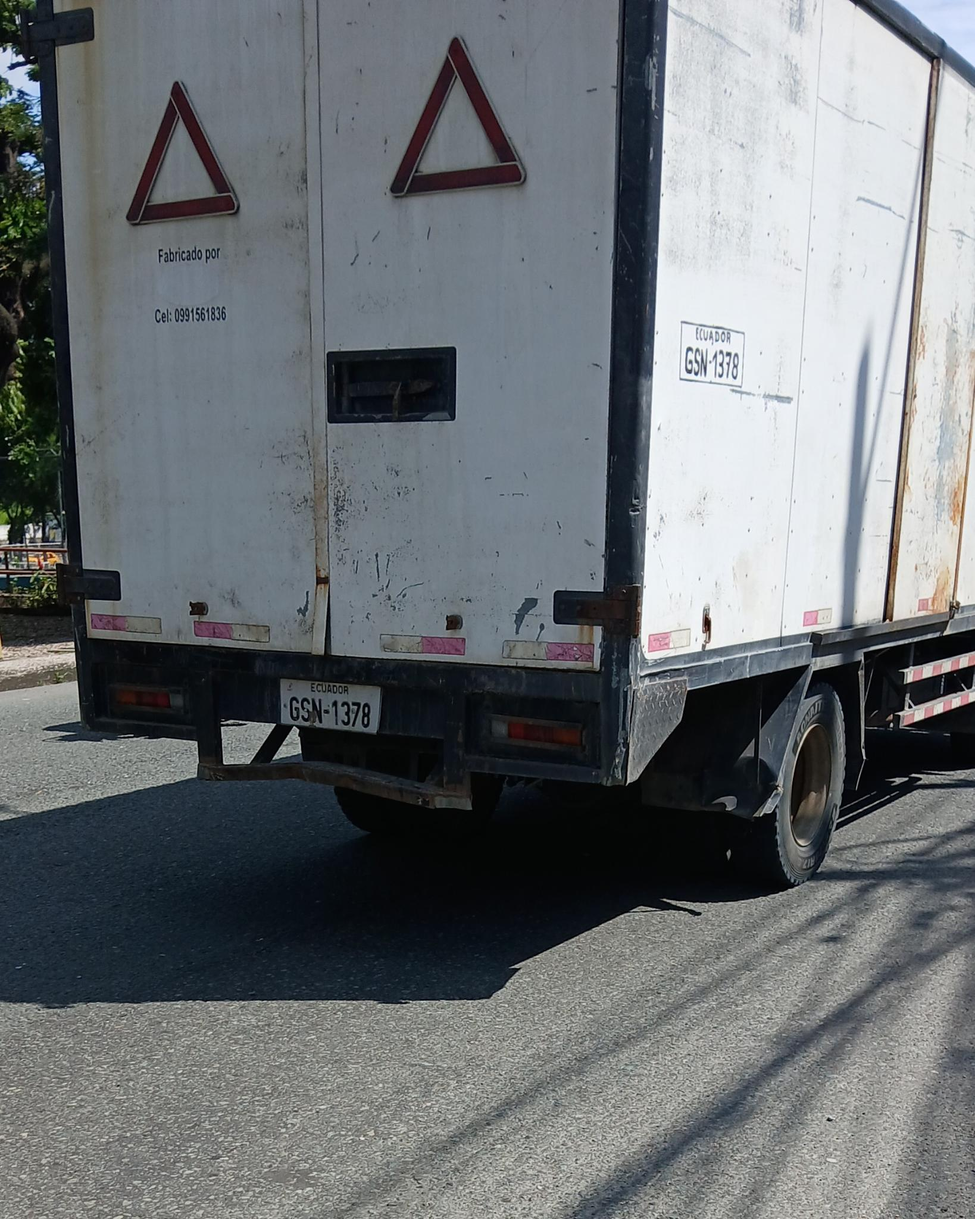license_plate: (279, 679, 382, 735)
